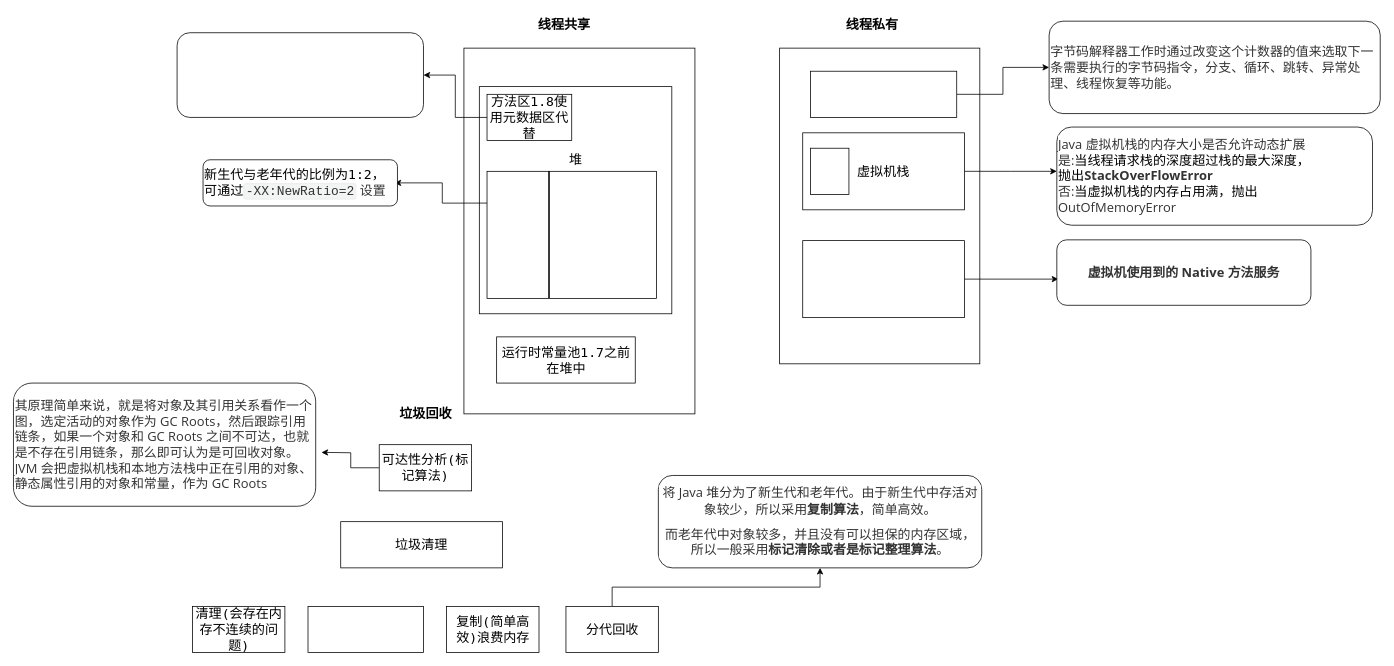
Some shapes in this 1394 by 666 pixel diagram are drawn without their labels. Here are the shapes that lost their labels. From the top down, the centre of each, then its label:
the point at 300,74: 它用于存储已被虚拟机加载的类信息、常量、静态变量、即时编译器编译后的代码等数据。这块区域也被称为 永久代
the point at 883,93: 程序计数器
the point at 829,170: 局部变量表
the point at 517,234: 新生代
the point at 602,234: 老年代
the point at 883,279: 本地方法栈
the point at 365,629: 压缩(标记整理)当存活的对象多时，整理的效率低
